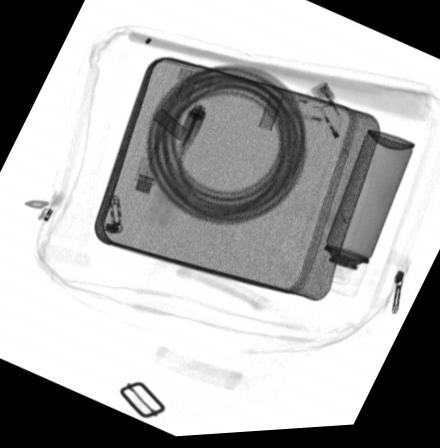Lighter: (303, 85, 364, 162)
Sprayer: (308, 135, 415, 304)
